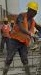gloves: (37, 6, 41, 15), (0, 71, 5, 75)
hard-hat: (0, 42, 12, 69)
mask: (35, 0, 41, 5)
ppe-suit: (20, 0, 41, 47)
vest: (9, 11, 37, 47)
